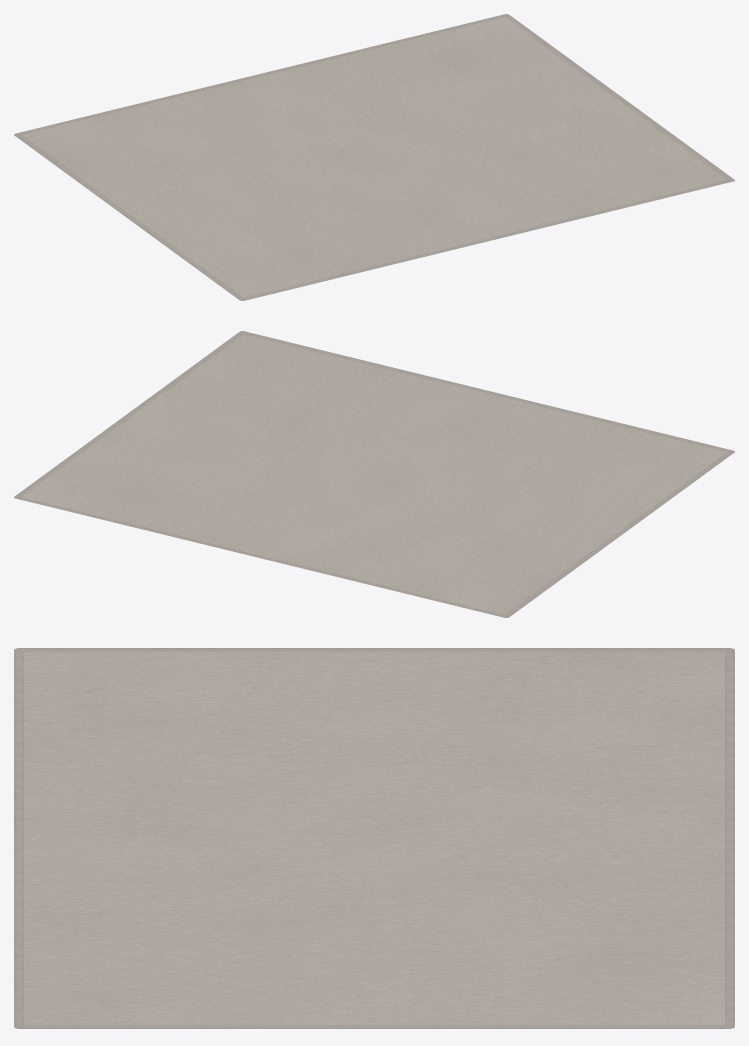
The model's file is beige_L_r90.glb.
3 views of the same model, one above another, from view 1: azimuth 30°, elevation 25°; view 2: azimuth 150°, elevation 25°; view 3: azimuth 270°, elevation 25° (orthographic). The views are drawn at different scales.
Parts seen in each view (by area): view 1: reliv_beige_L_r90; view 2: reliv_beige_L_r90; view 3: reliv_beige_L_r90.
Part boxes in pixels (left/top/right/bottom): reliv_beige_L_r90: left=14, top=14, right=734, bottom=300; reliv_beige_L_r90: left=14, top=331, right=734, bottom=617; reliv_beige_L_r90: left=14, top=648, right=734, bottom=1028.
Bounding box in the file's own units: 2.5 × 0.009 × 2.
2 materials, 1 textured.
